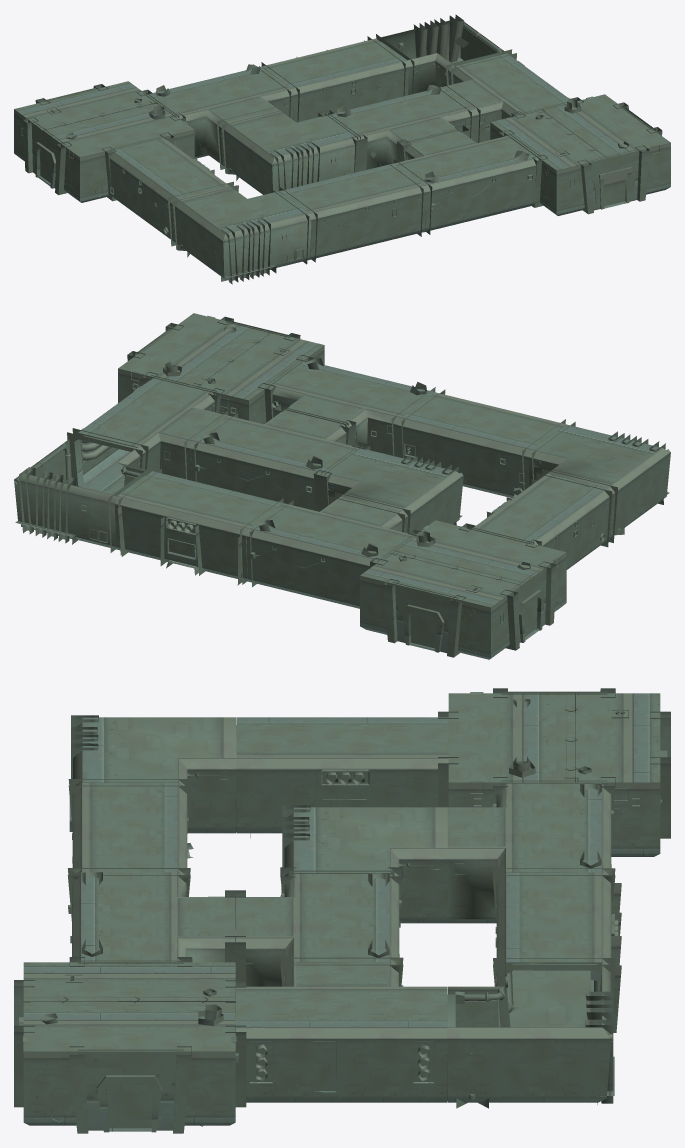
File: Combined_Mesh_root_scene__2_ff295a5e__zombies2_diffuse_09_d56e2e54_c1f257.obj
3 views of the same model, one above another, from view 1: azimuth 30°, elevation 25°; view 2: azimuth 150°, elevation 25°; view 3: azimuth 270°, elevation 25° (orthographic). The views are drawn at different scales.
Bounding box in the file's own units: 81.96 × 9.64 × 62.02.
Materials: 179 (179 with a texture image).
